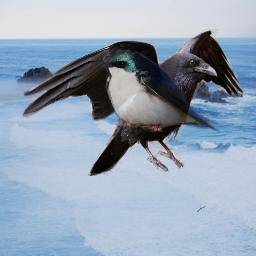Crow: (20, 29, 245, 176)
Swallow: (100, 49, 222, 132)
